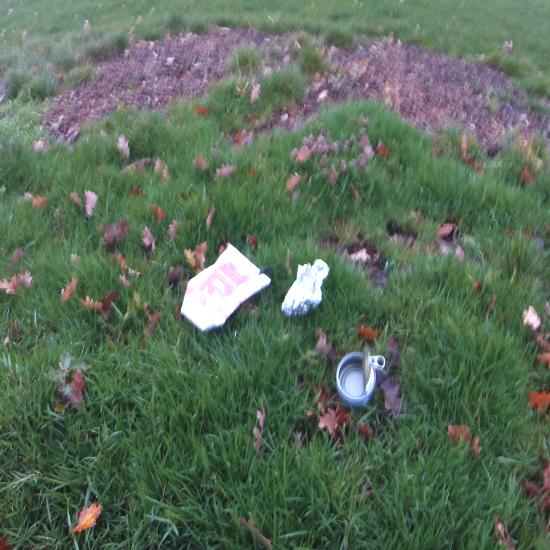Aluminium foil: (281, 259, 329, 317)
Drink carton: (181, 244, 272, 332)
Food Can: (335, 347, 385, 406)
Plastic straw: (259, 263, 279, 274)
Pop tab: (369, 355, 385, 367)
